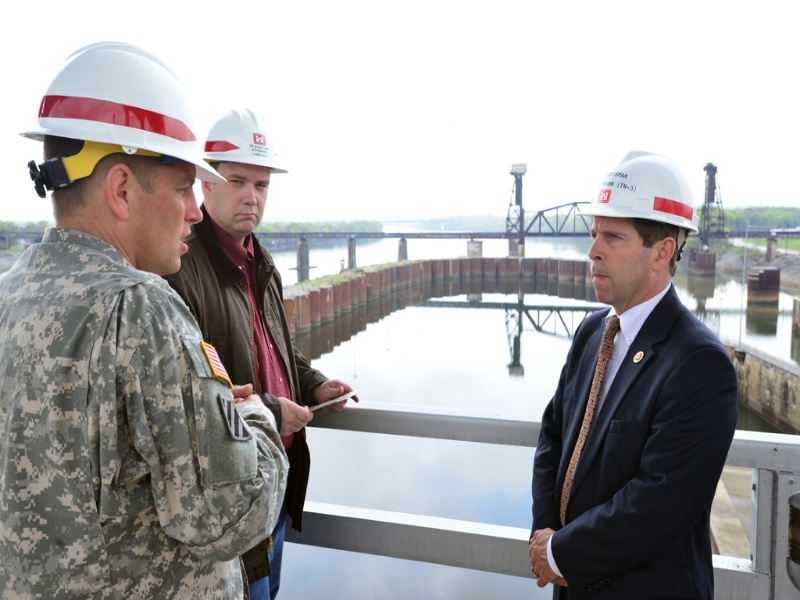baret: (19, 40, 228, 187), (576, 147, 704, 239), (205, 106, 288, 169)
